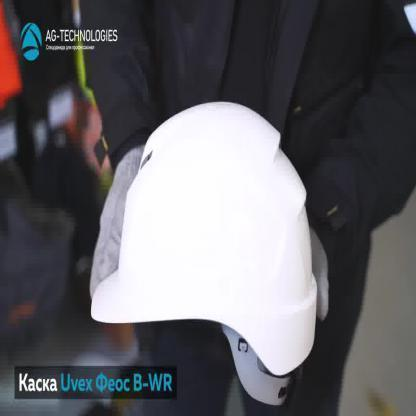helmet: (89, 98, 318, 378)
